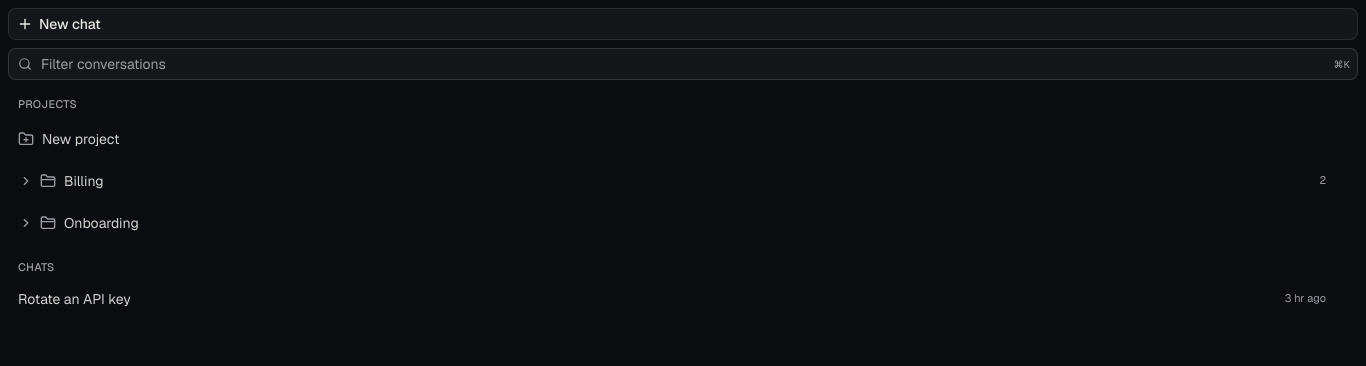
Test: projects in the chat sidebar › creates a project in place, shows it at once and opens its home
Click the button "New project" at (81, 138), box 8,118 -> 1358,158
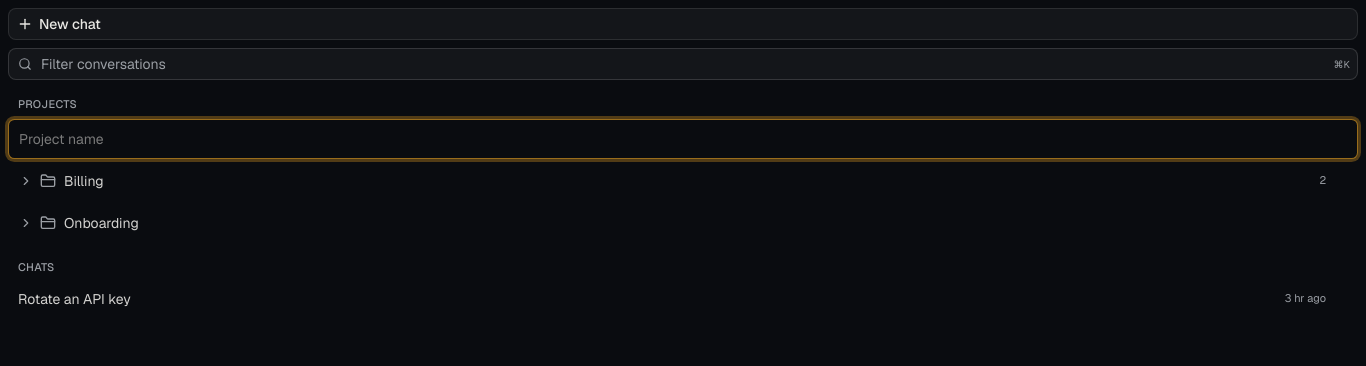
Type "Security" into the field named "New project name" at (683, 138), box 8,118 -> 1358,158
Then press Enter
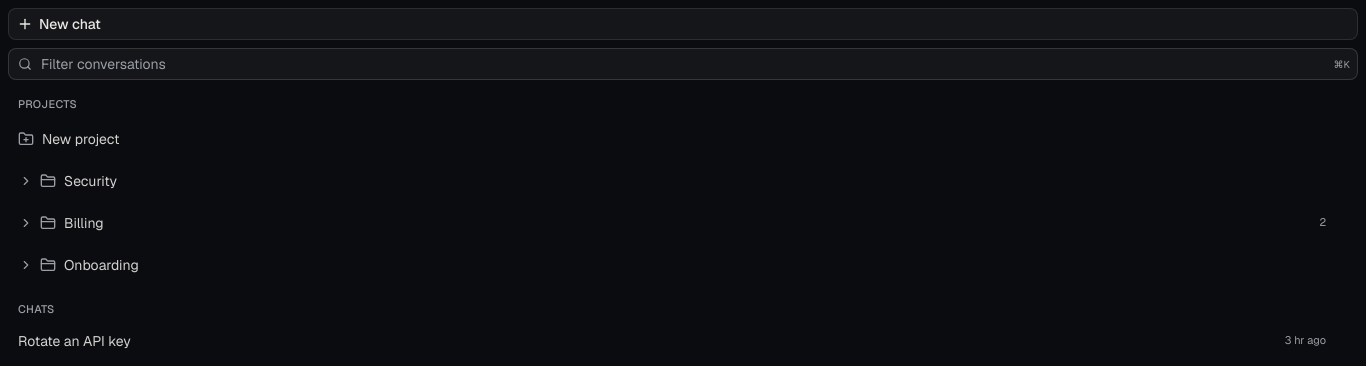
Now the list item with test id "project-folder" showing "Security" is shown, box 12,166 -> 117,194
